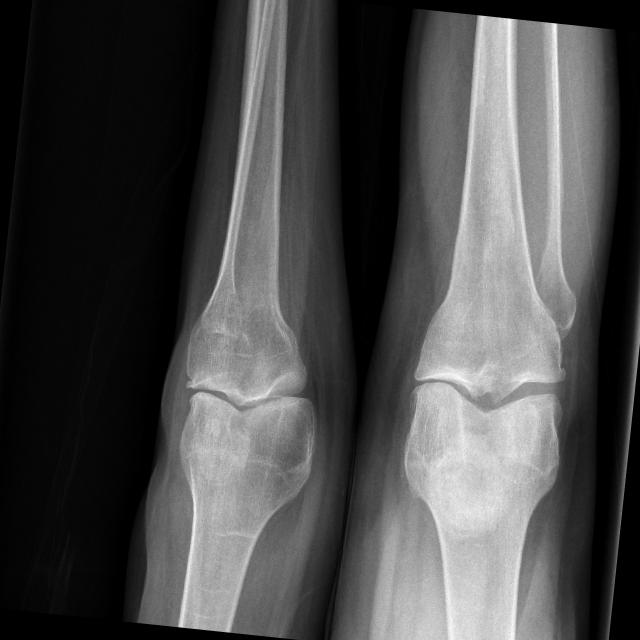Knee: (402, 312, 580, 500), (170, 312, 326, 491)
